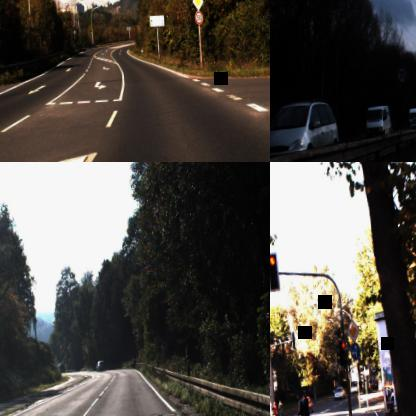go left: (350, 342, 360, 360)
priority road: (346, 319, 360, 343), (191, 0, 204, 12)
speed limit 50: (194, 10, 204, 25)
speed limit 70: (394, 63, 410, 86)
